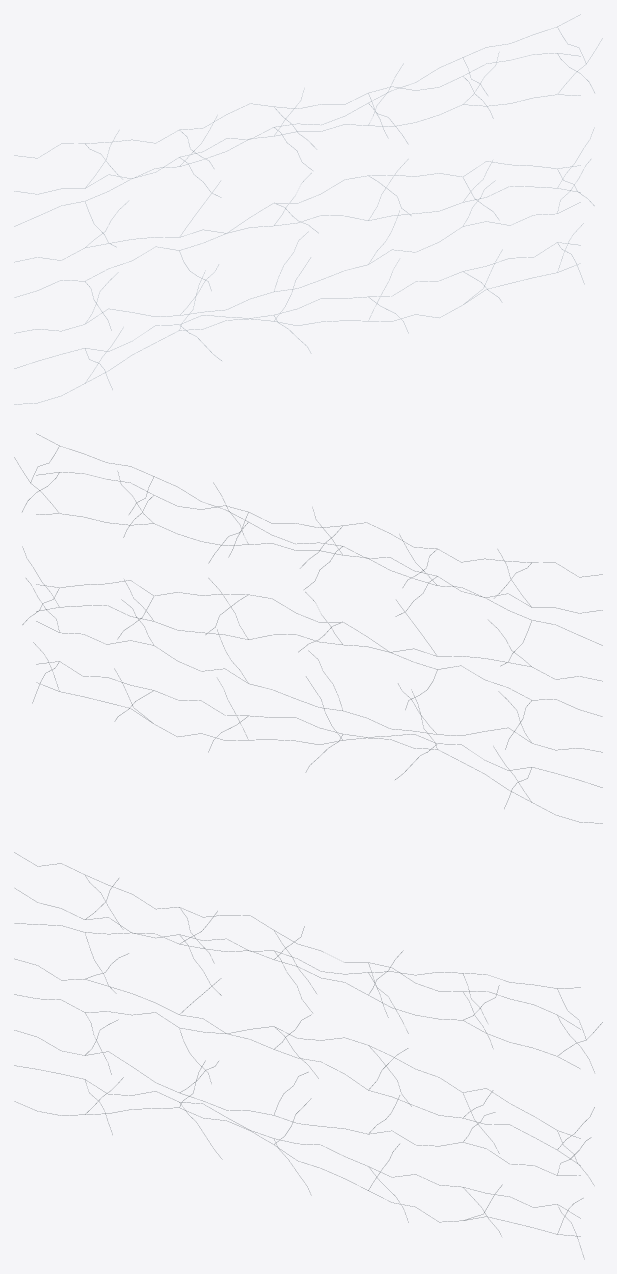
The model's file is 2071_RiftGround_State_ThinInnerEnergy.fbx.
3 renders of one model, top to bottom at view 1: azimuth 30°, elevation 25°; view 2: azimuth 150°, elevation 25°; view 3: azimuth 330°, elevation 25°, orthographic.
Parts seen in each view (by area): view 1: PART_ThinInnerEnergy_20, PART_ThinInnerEnergy_34, PART_ThinInnerEnergy_48, PART_ThinInnerEnergy_6, PART_ThinInnerEnergy_13, PART_ThinInnerEnergy_27, PART_ThinInnerEnergy_41, PART_ThinInnerEnergy_55; view 2: PART_ThinInnerEnergy_48, PART_ThinInnerEnergy_20, PART_ThinInnerEnergy_34, PART_ThinInnerEnergy_6, PART_ThinInnerEnergy_13, PART_ThinInnerEnergy_27, PART_ThinInnerEnergy_55, PART_ThinInnerEnergy_41; view 3: PART_ThinInnerEnergy_6, PART_ThinInnerEnergy_20, PART_ThinInnerEnergy_13, PART_ThinInnerEnergy_27.
Part boxes in pixels (left/top/right/bottom): PART_ThinInnerEnergy_20: left=14, top=202, right=580, bottom=333; PART_ThinInnerEnergy_34: left=14, top=186, right=580, bottom=262; PART_ThinInnerEnergy_48: left=14, top=94, right=580, bottom=194; PART_ThinInnerEnergy_6: left=14, top=263, right=580, bottom=404; PART_ThinInnerEnergy_13: left=14, top=242, right=580, bottom=368; PART_ThinInnerEnergy_27: left=14, top=161, right=580, bottom=297; PART_ThinInnerEnergy_41: left=14, top=14, right=580, bottom=226; PART_ThinInnerEnergy_55: left=14, top=53, right=580, bottom=158; PART_ThinInnerEnergy_48: left=36, top=513, right=602, bottom=613; PART_ThinInnerEnergy_20: left=36, top=621, right=602, bottom=752; PART_ThinInnerEnergy_34: left=36, top=605, right=602, bottom=681; PART_ThinInnerEnergy_6: left=36, top=682, right=602, bottom=823; PART_ThinInnerEnergy_13: left=36, top=661, right=602, bottom=787; PART_ThinInnerEnergy_27: left=36, top=580, right=602, bottom=716; PART_ThinInnerEnergy_55: left=36, top=472, right=602, bottom=577; PART_ThinInnerEnergy_41: left=36, top=433, right=602, bottom=645; PART_ThinInnerEnergy_6: left=14, top=1101, right=580, bottom=1236; PART_ThinInnerEnergy_20: left=14, top=1030, right=580, bottom=1175; PART_ThinInnerEnergy_13: left=14, top=1065, right=580, bottom=1218; PART_ThinInnerEnergy_27: left=14, top=994, right=580, bottom=1138.
Size of the model in its own units: 2045 by 920 by 0.00015.
